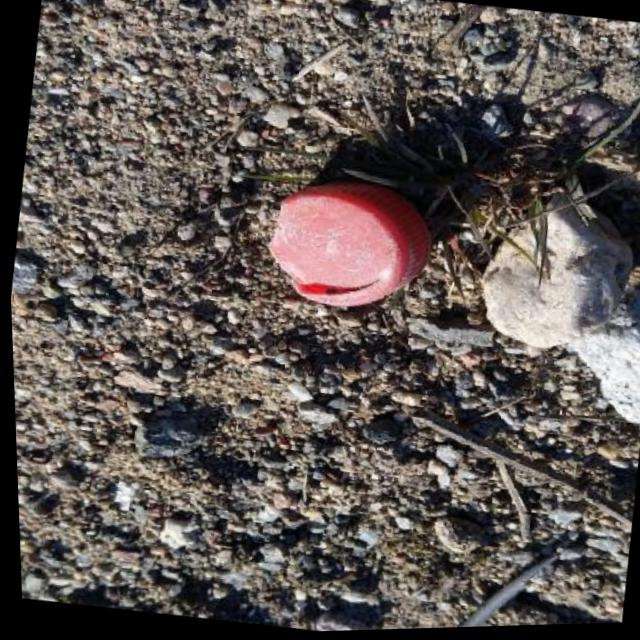plastic: (258, 169, 443, 321)
